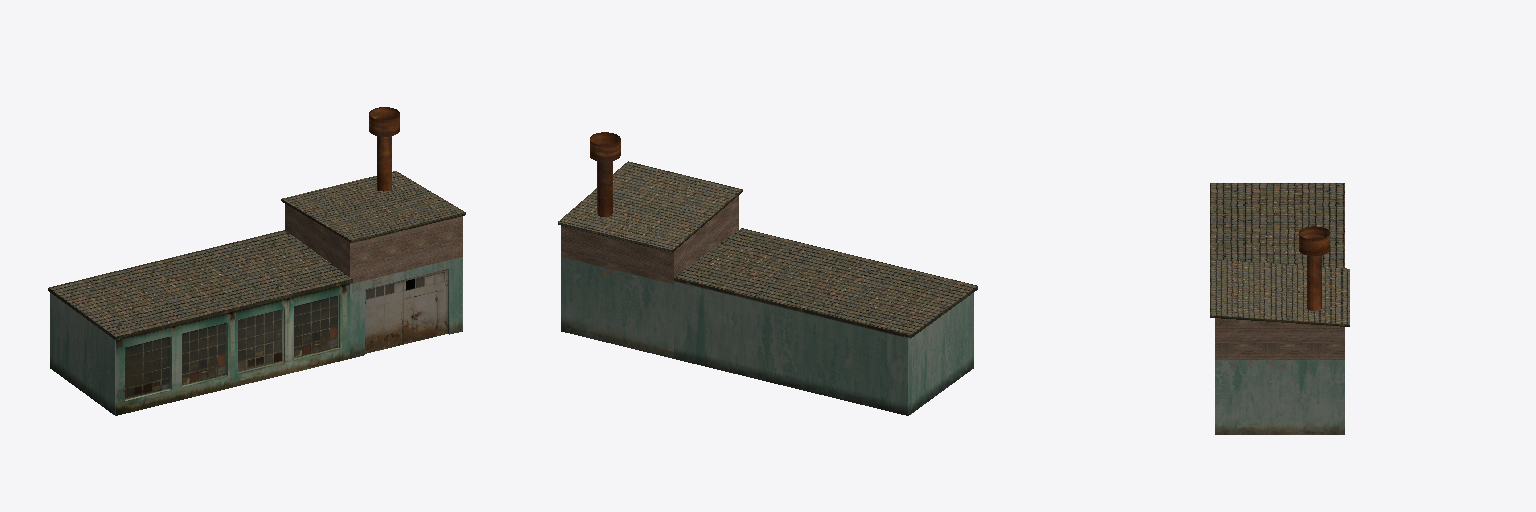
3 views of the same model, side by side, from view 1: azimuth 30°, elevation 25°; view 2: azimuth 150°, elevation 25°; view 3: azimuth 270°, elevation 25° (orthographic).
Parts seen in each view (by area): view 1: obj1, obj2; view 2: obj1, obj2; view 3: obj2, obj1.
Boxes of the visible parts, x1,y1,x2,y2 form: obj1: [48, 230, 352, 415]; obj2: [281, 107, 465, 358]; obj1: [674, 228, 977, 415]; obj2: [558, 132, 742, 358]; obj2: [1210, 226, 1349, 434]; obj1: [1210, 183, 1344, 267].
Bounding box in the file's own units: 15.55 × 7.98 × 5.4.
2 materials, 2 textured.